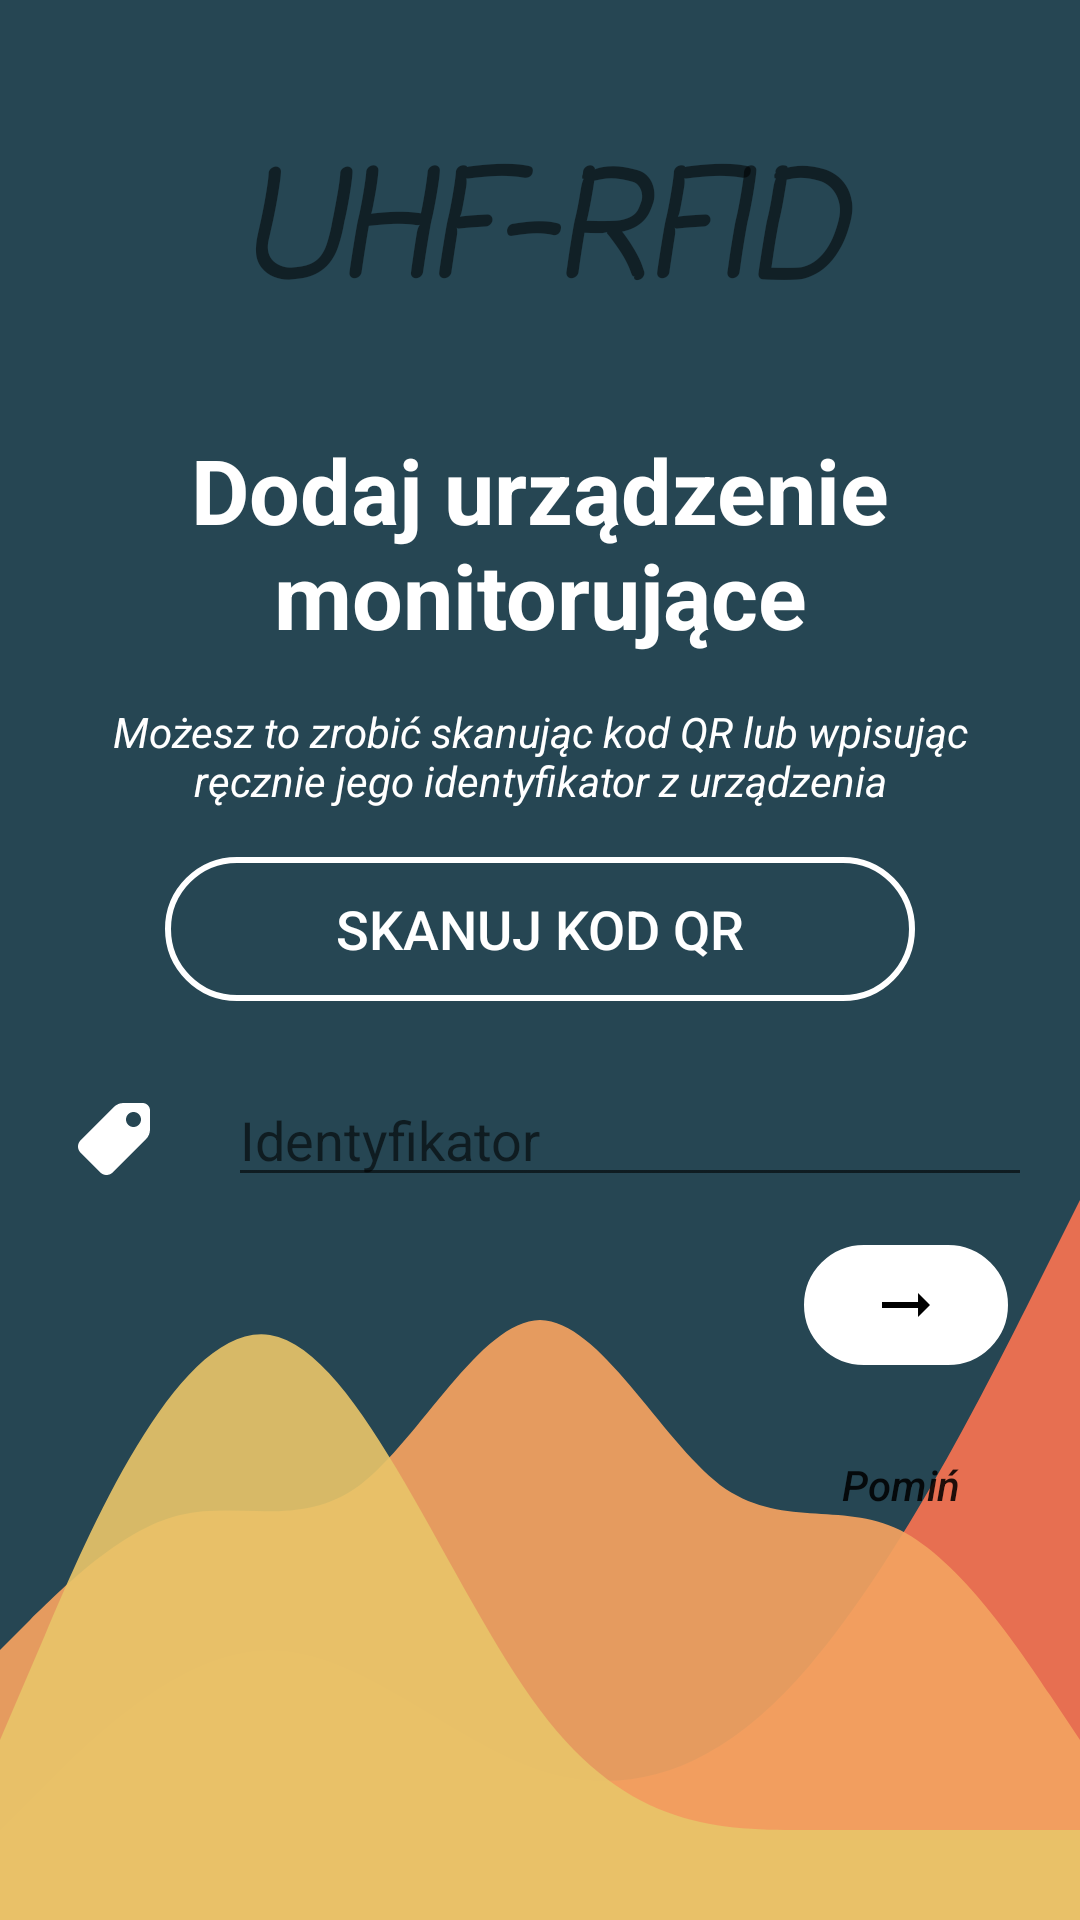

Icon click points for this 1080x1920 phone screenshot, format point (x, y):
arrow right: point (906, 1305)
price tag: point (114, 1139)
